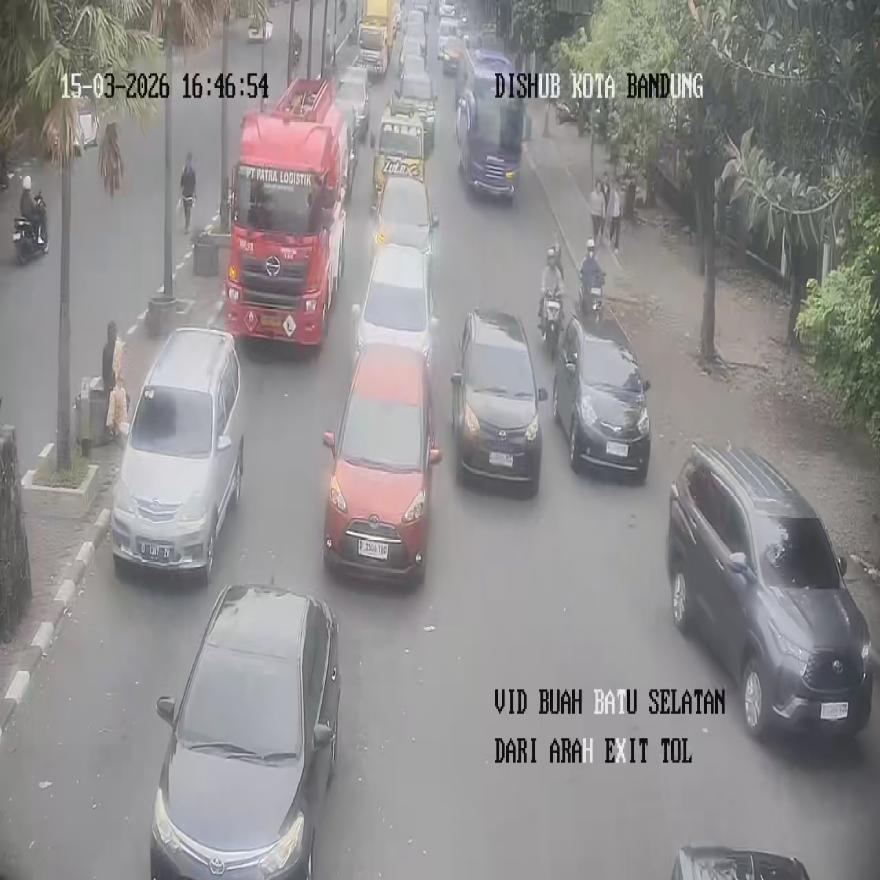Mobil: (666, 441, 873, 738), (149, 583, 340, 879), (110, 326, 243, 583), (322, 342, 441, 583), (451, 308, 547, 495), (553, 314, 652, 480), (351, 240, 435, 382)
Motor: (12, 190, 48, 262), (577, 264, 605, 323), (540, 287, 562, 358), (180, 152, 195, 232), (291, 30, 302, 68)
Truk berat: (224, 77, 355, 346)
bus: (455, 40, 532, 200)
